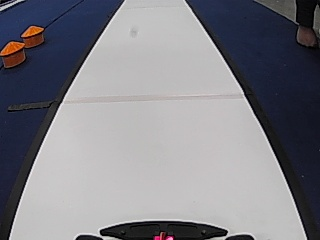granary: (0, 39, 25, 68), (19, 23, 44, 48)
